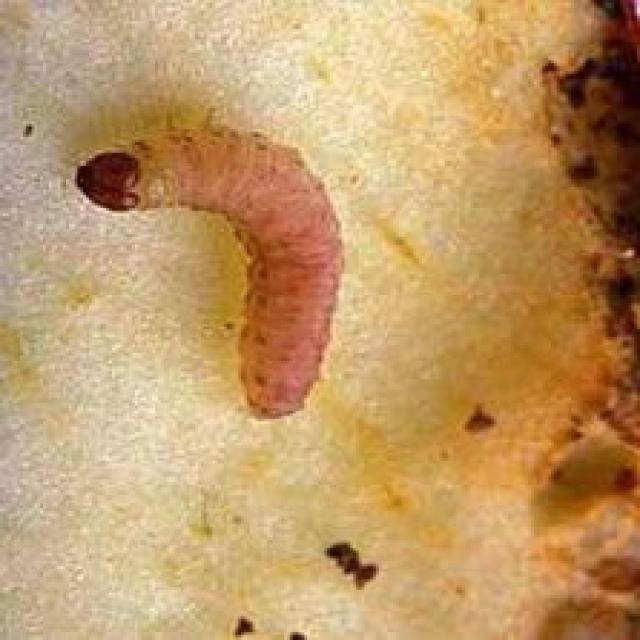peach borer: (73, 117, 360, 433)
